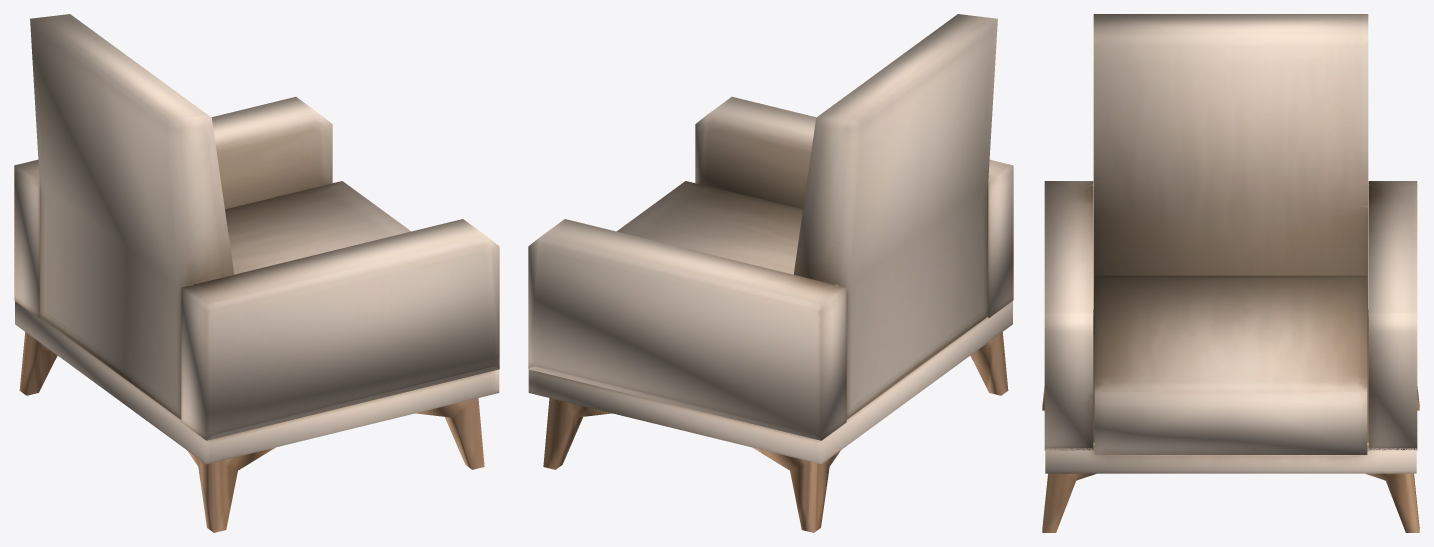
The model's file is armchair03.glb.
3 views of the same model, side by side, from view 1: azimuth 30°, elevation 25°; view 2: azimuth 150°, elevation 25°; view 3: azimuth 270°, elevation 25° (orthographic). The views are drawn at different scales.
Visible parts, largest first — view 1: armchair03; view 2: armchair03; view 3: armchair03.
Boxes of the visible parts, x1=… form: armchair03: x1=14, y1=14, x2=499, y2=532; armchair03: x1=528, y1=14, x2=1013, y2=532; armchair03: x1=1042, y1=14, x2=1419, y2=532.
Bounding box in the file's own units: 0.7229 × 0.8754 × 0.7805.
1 material, 1 textured.
